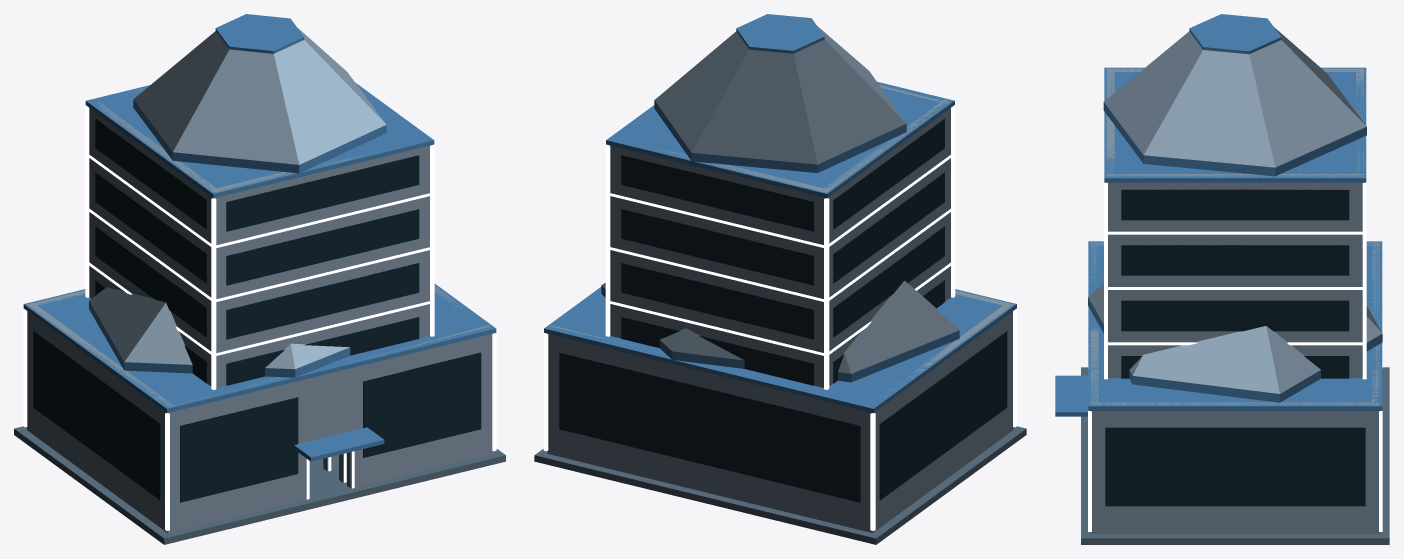
File: shaddai_realm_buildings_arctic_v01.glb
The picture shows the model from 3 angles, left to right: view 1: azimuth 30°, elevation 25°; view 2: azimuth 150°, elevation 25°; view 3: azimuth 270°, elevation 25°; orthographic projection. The views are drawn at different scales.
Visible parts, largest first — view 1: shaddai_bld_arctic_tower, shaddai_bld_arctic_hall; view 2: shaddai_bld_arctic_tower, shaddai_bld_arctic_hall; view 3: shaddai_bld_arctic_tower, shaddai_bld_arctic_hall.
Part boxes in pixels (x1,y1,x2,y2): shaddai_bld_arctic_tower: [85, 14, 434, 482]; shaddai_bld_arctic_hall: [14, 284, 505, 544]; shaddai_bld_arctic_tower: [605, 14, 955, 389]; shaddai_bld_arctic_hall: [534, 280, 1026, 544]; shaddai_bld_arctic_tower: [1071, 14, 1366, 416]; shaddai_bld_arctic_hall: [1055, 241, 1389, 544].
Bounding box in the file's own units: 25.2 × 29.3 × 20.8.
